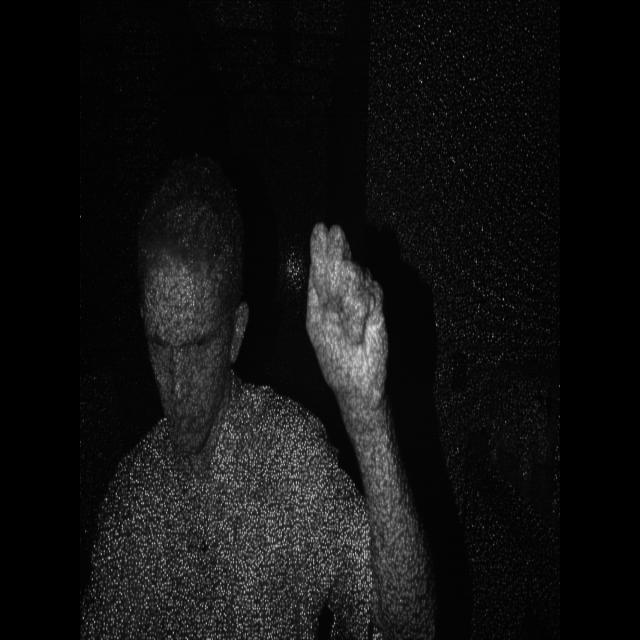N: (298, 195, 414, 428)
